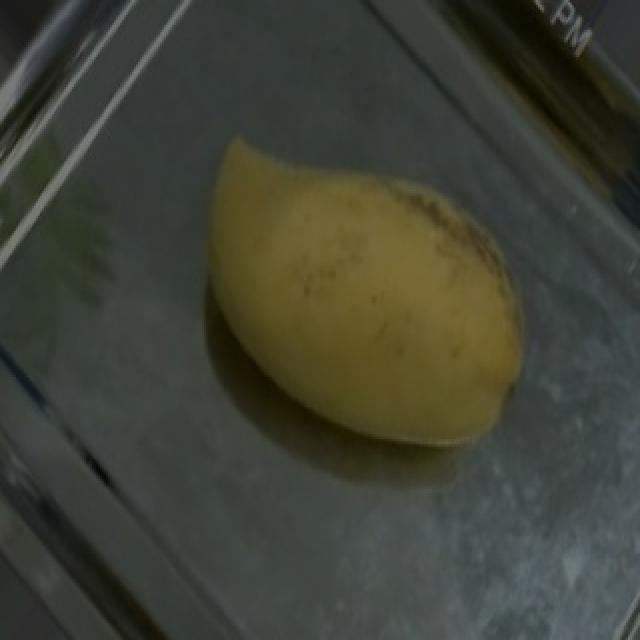fruit: (188, 34, 608, 508)
